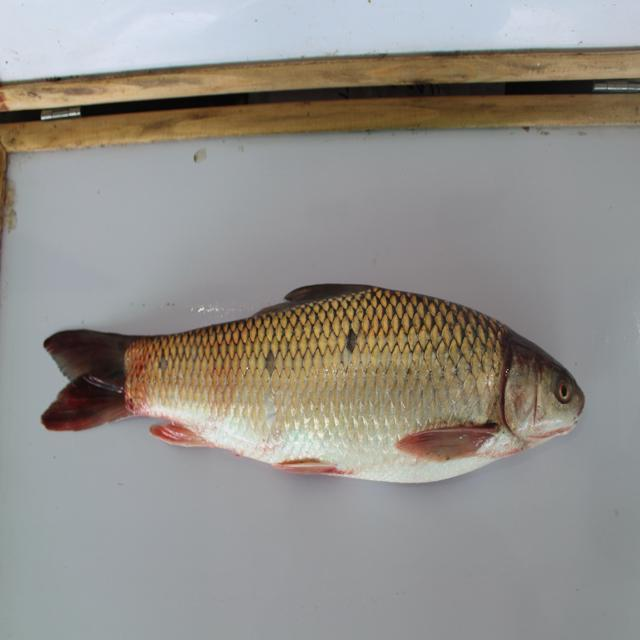Mori: (59, 272, 580, 493)
